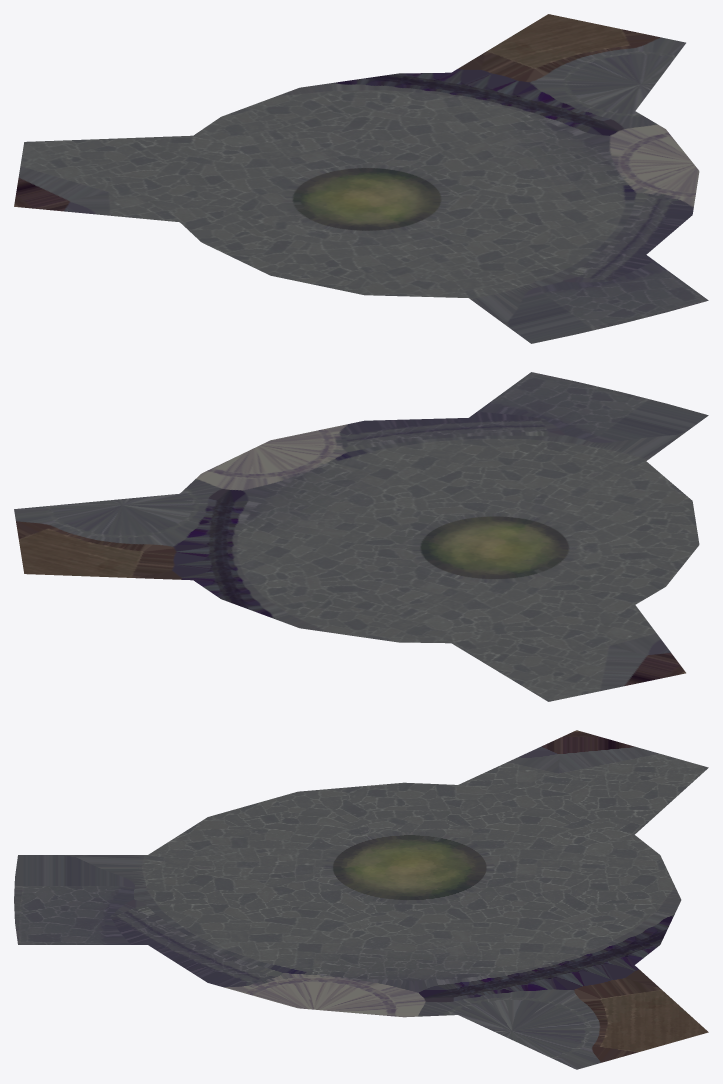
File: Room03_Waterplane.fbx
3 renders of one model, top to bottom at view 1: azimuth 30°, elevation 25°; view 2: azimuth 150°, elevation 25°; view 3: azimuth 270°, elevation 25°, orthographic. The views are drawn at different scales.
Visible parts, largest first — view 1: Room3_Waterplane; view 2: Room3_Waterplane; view 3: Room3_Waterplane.
Part boxes in pixels (x1,y1,x2,y2): Room3_Waterplane: [14, 14, 708, 343]; Room3_Waterplane: [14, 372, 708, 701]; Room3_Waterplane: [14, 730, 708, 1069].
Size of the model in its own units: 6901 by 0.000978 by 5967.
